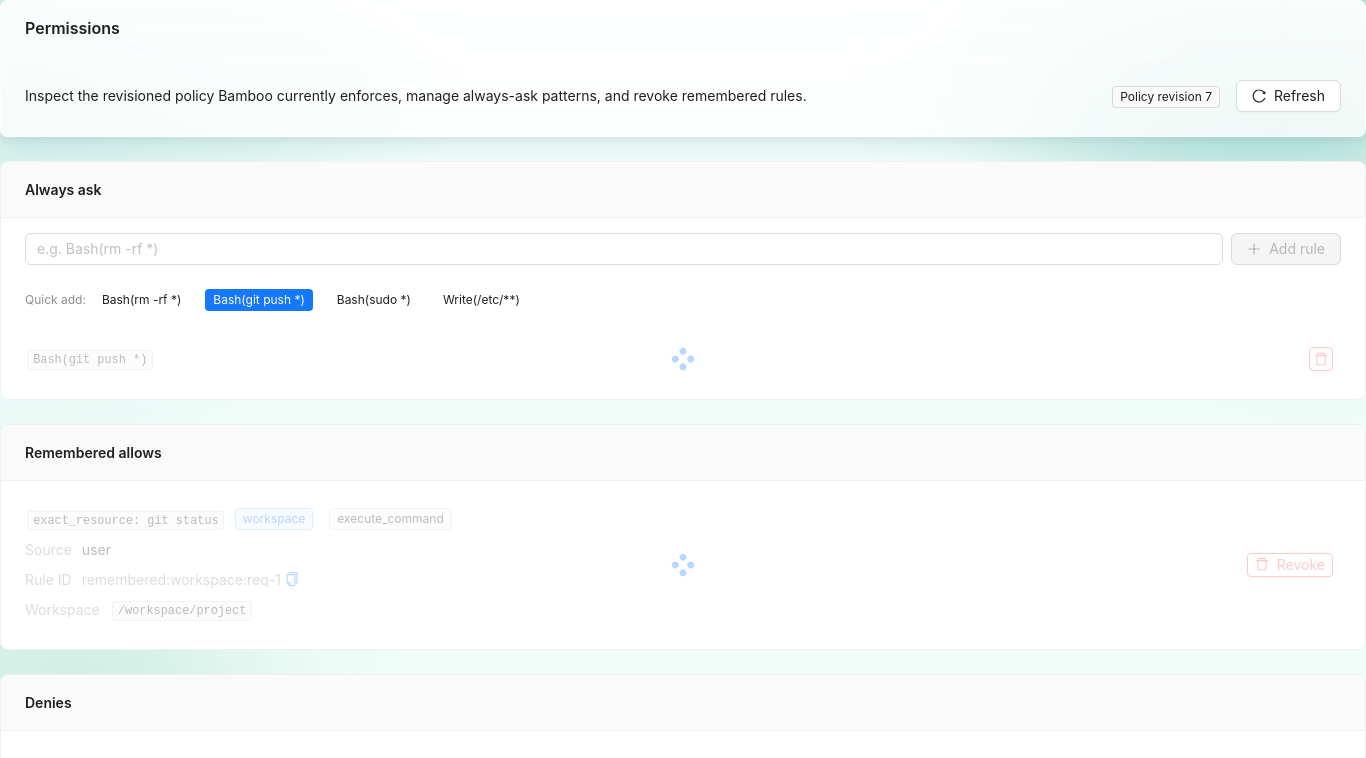
it: SystemSettingsPermissionsTab › shows backend validation failures inline and reloads canonical policy
Type "Bash(invalid" into the field with placeholder "e.g. Bash(rm -rf *)" at (616, 249), box [37,238,1195,260]
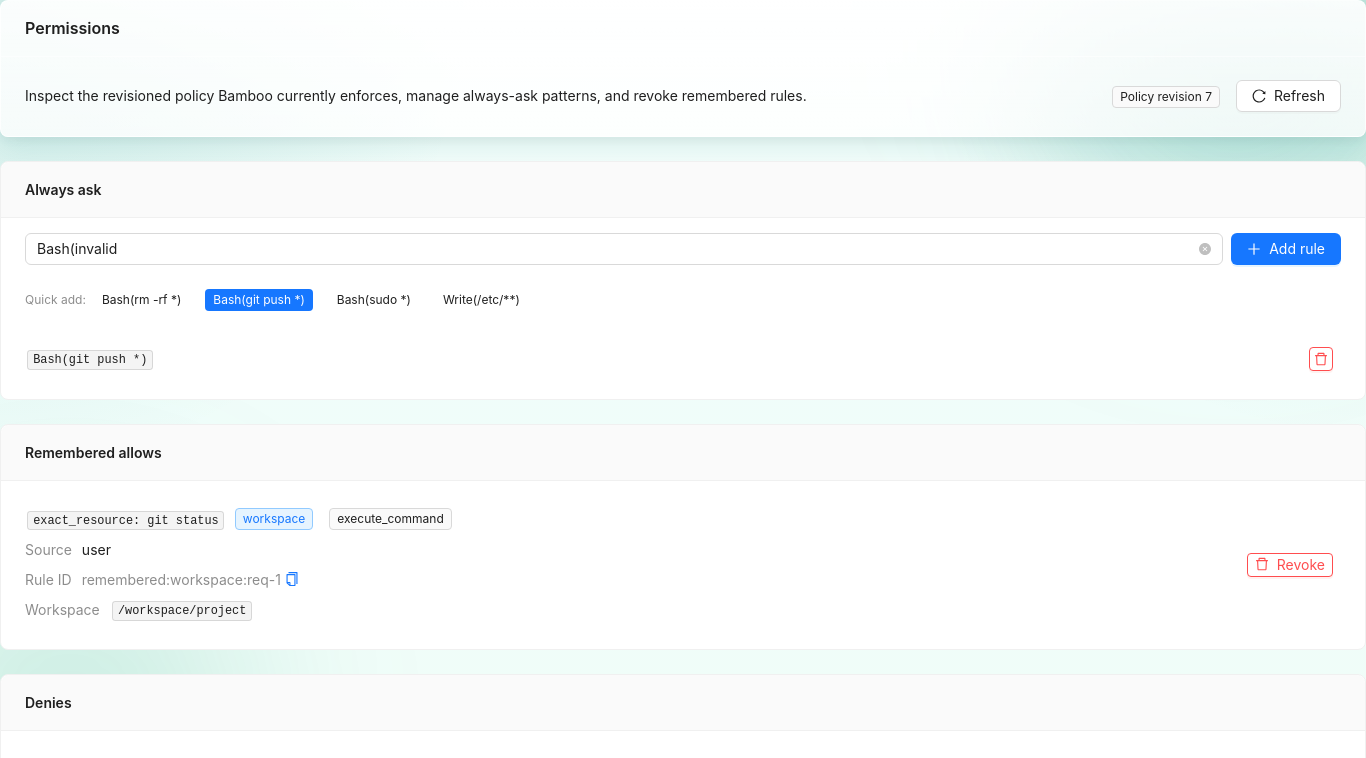
Click the button "Add rule" at (1286, 249), box [1231,233,1341,265]
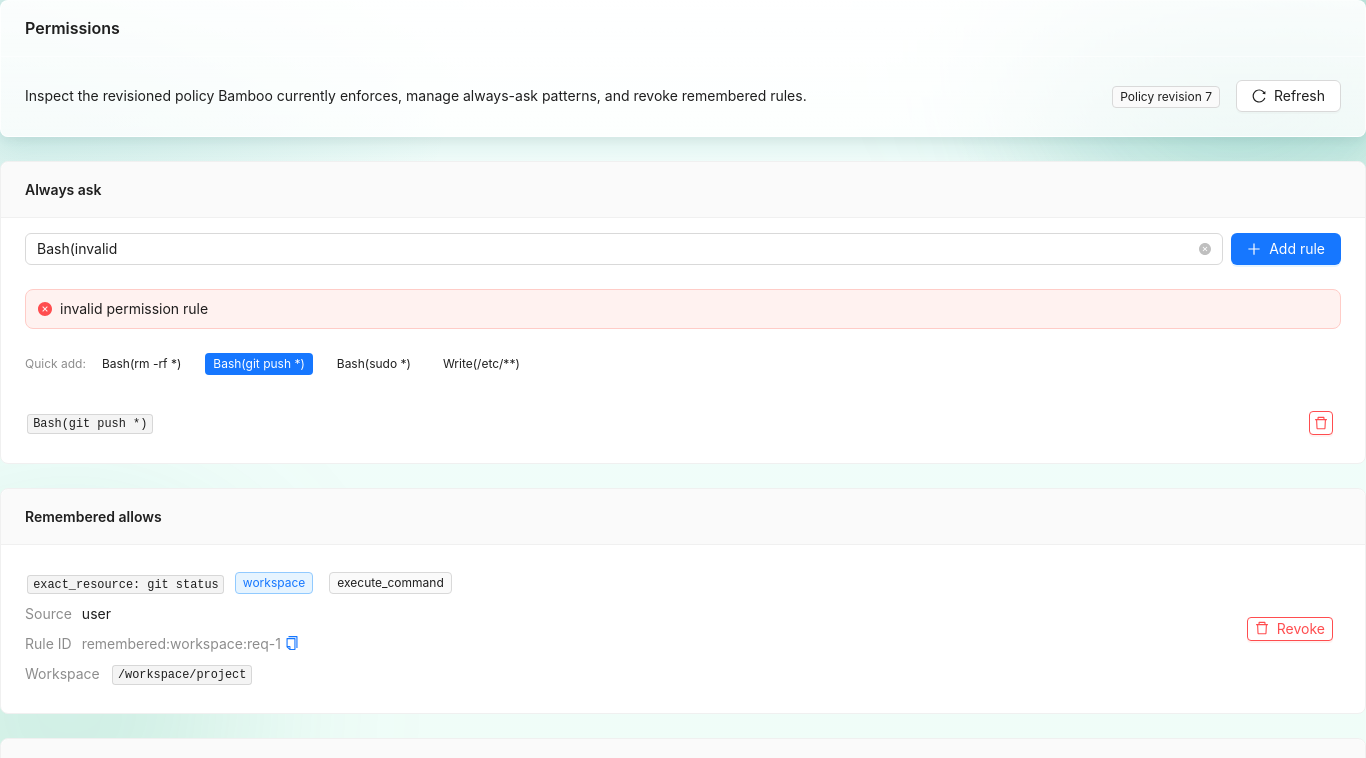
Now the text "invalid permission rule" is shown, box [60,300,208,317]
